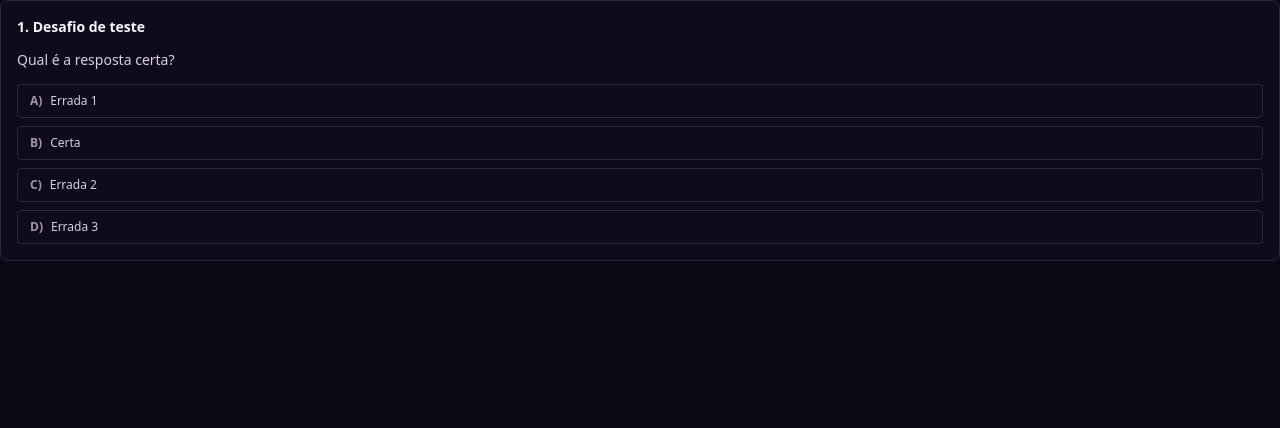
Scenario: ConceptChallenge — comportamento genérico (fixture isolada) › mostra a explicação depois de responder, quando o desafio tiver uma
Click the button "A)Errada 1" at (74, 100), box x1=17 y1=84 x2=1263 y2=118
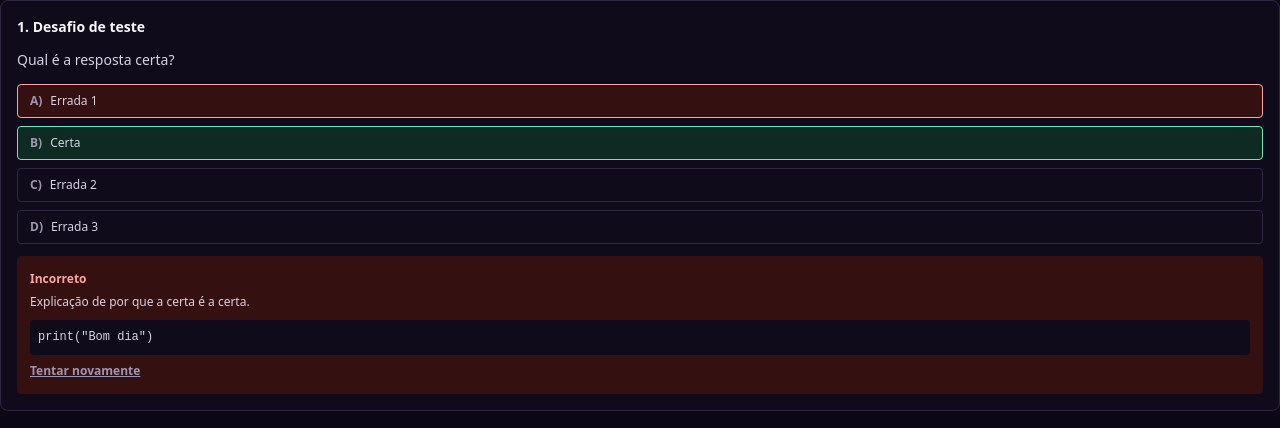
Now the text "print(\"Bom dia\")" is shown, box x1=30 y1=320 x2=1250 y2=355
